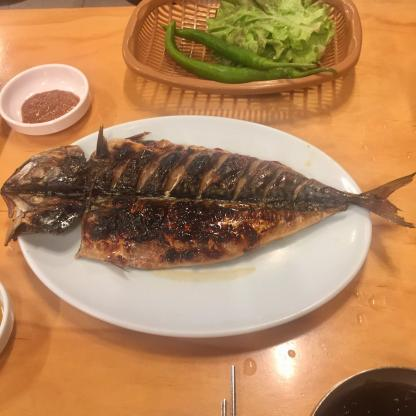Peixe: (0, 137, 416, 294)
